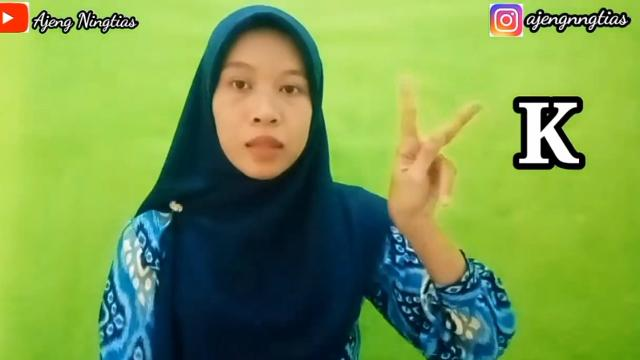K: (386, 74, 482, 228)
